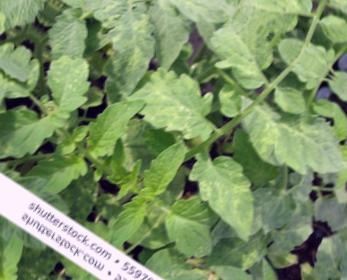Tomato leaf mosaic virus: (103, 37, 231, 151), (229, 77, 347, 196), (169, 138, 282, 243), (85, 2, 171, 95), (195, 10, 282, 94), (24, 38, 106, 126), (148, 185, 234, 268), (0, 80, 68, 183), (119, 0, 208, 77), (75, 79, 151, 166), (133, 126, 198, 202), (101, 186, 157, 251), (201, 247, 271, 280), (266, 77, 310, 118)
